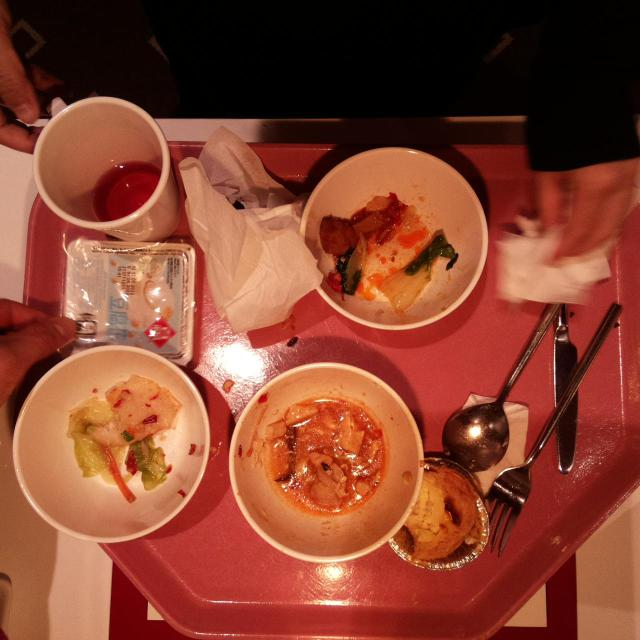Fish: (106, 378, 182, 446)
Vegetable: (65, 398, 109, 478), (398, 230, 458, 279), (130, 438, 168, 492), (333, 248, 362, 296)
